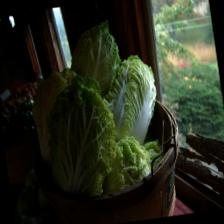cabbage: (38, 69, 125, 203), (100, 51, 164, 153), (65, 17, 127, 107)
